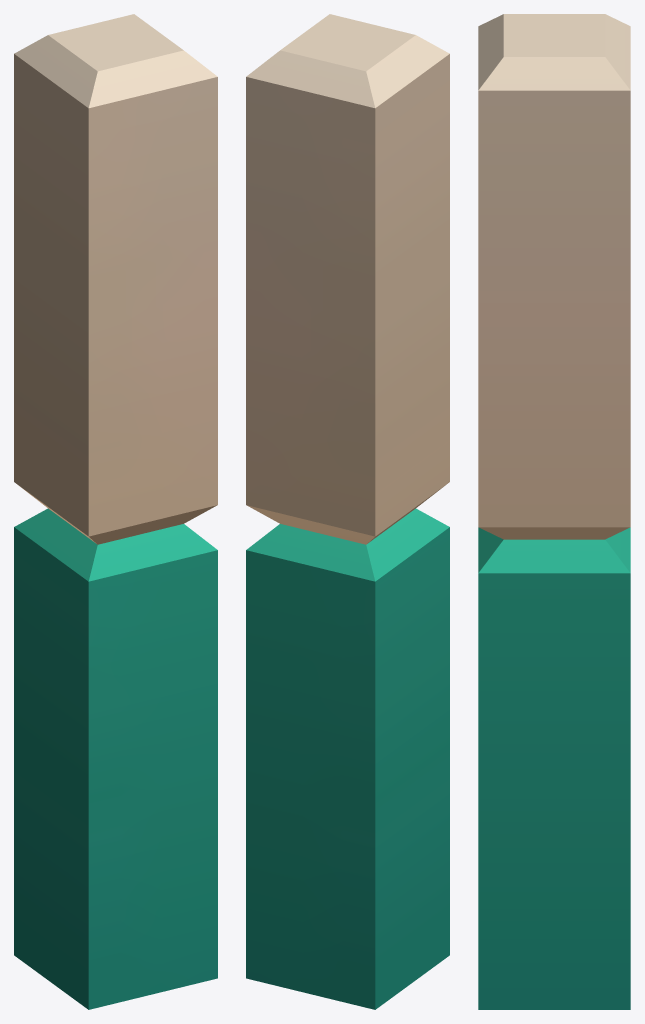
The model's file is kkr.pillar_a.glb.
3 renders of one model, left to right at view 1: azimuth 30°, elevation 25°; view 2: azimuth 150°, elevation 25°; view 3: azimuth 270°, elevation 25°, orthographic.
Parts seen in each view (by area): view 1: pillar_A; view 2: pillar_A; view 3: pillar_A.
Boxes of the visible parts, box(x1,y1,x2,y2) form: pillar_A: box(14, 14, 217, 1009); pillar_A: box(246, 14, 449, 1009); pillar_A: box(478, 14, 630, 1009).
Size of the model in its own units: 0.4471 by 3.05 by 0.4471.
1 material, 1 textured.
